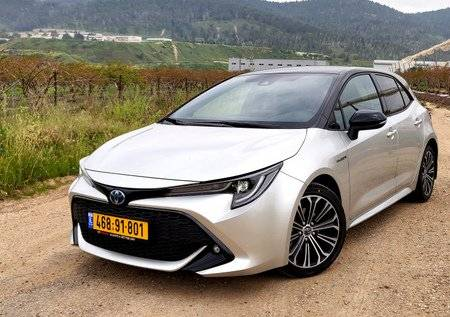licence: (86, 208, 152, 242)
